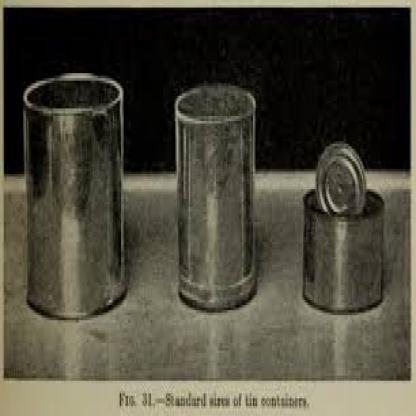METAL: (20, 68, 125, 318), (173, 80, 254, 312), (302, 136, 385, 310)
